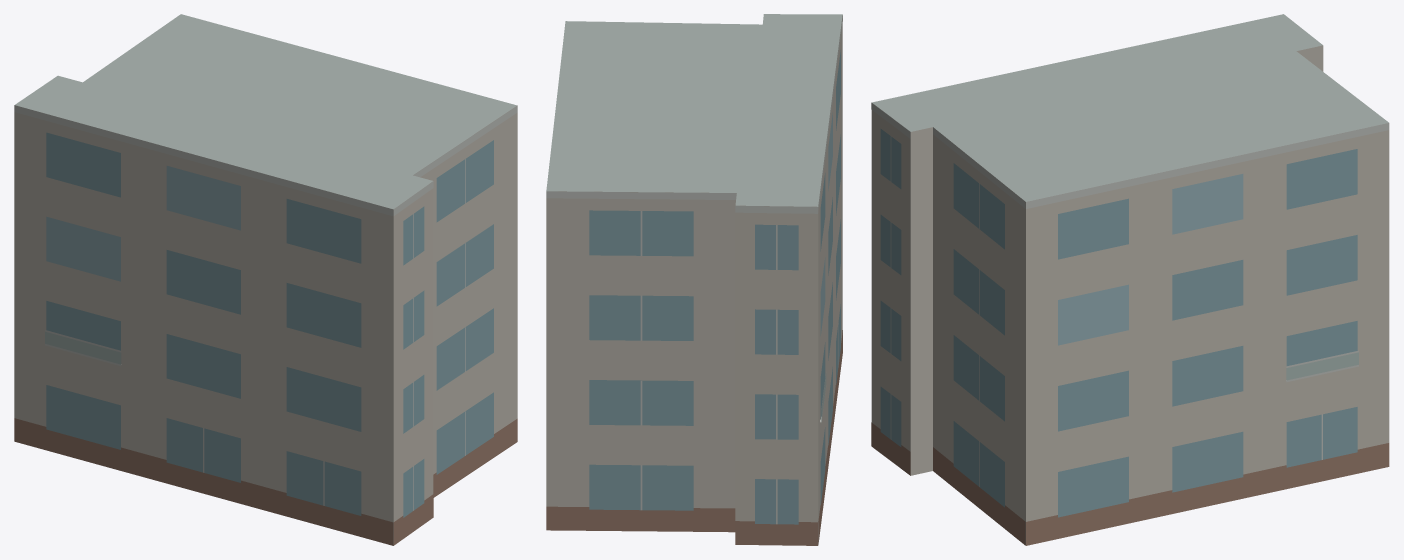
The model's file is survey-upis-33021410.glb.
3 renders of one model, left to right at view 1: azimuth 30°, elevation 25°; view 2: azimuth 150°, elevation 25°; view 3: azimuth 270°, elevation 25°, orthographic. The views are drawn at different scales.
Visible parts, largest first — view 1: survey-upis-33021410.tmp; view 2: survey-upis-33021410.tmp; view 3: survey-upis-33021410.tmp.
Part boxes in pixels (x1,y1,x2,y2): survey-upis-33021410.tmp: (14,14,517,545); survey-upis-33021410.tmp: (546,14,842,545); survey-upis-33021410.tmp: (871,14,1389,545).
Size of the model in its own units: 13.72 by 11.7 by 15.98.
